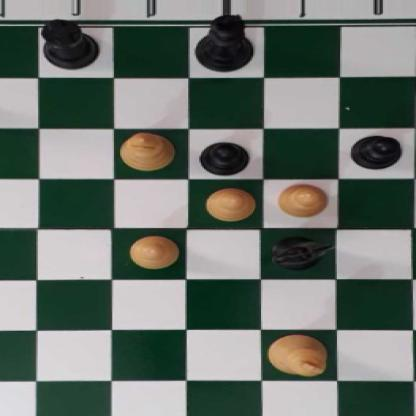black-king: (196, 11, 255, 75)
black-knight: (272, 233, 331, 271)
black-pawn: (350, 133, 403, 169), (198, 139, 250, 174)
black-rook: (36, 21, 101, 66)
white-bishop: (119, 128, 176, 172)
white-king: (266, 332, 331, 377)
white-pawn: (127, 233, 179, 270), (202, 187, 256, 222), (277, 183, 326, 218)
